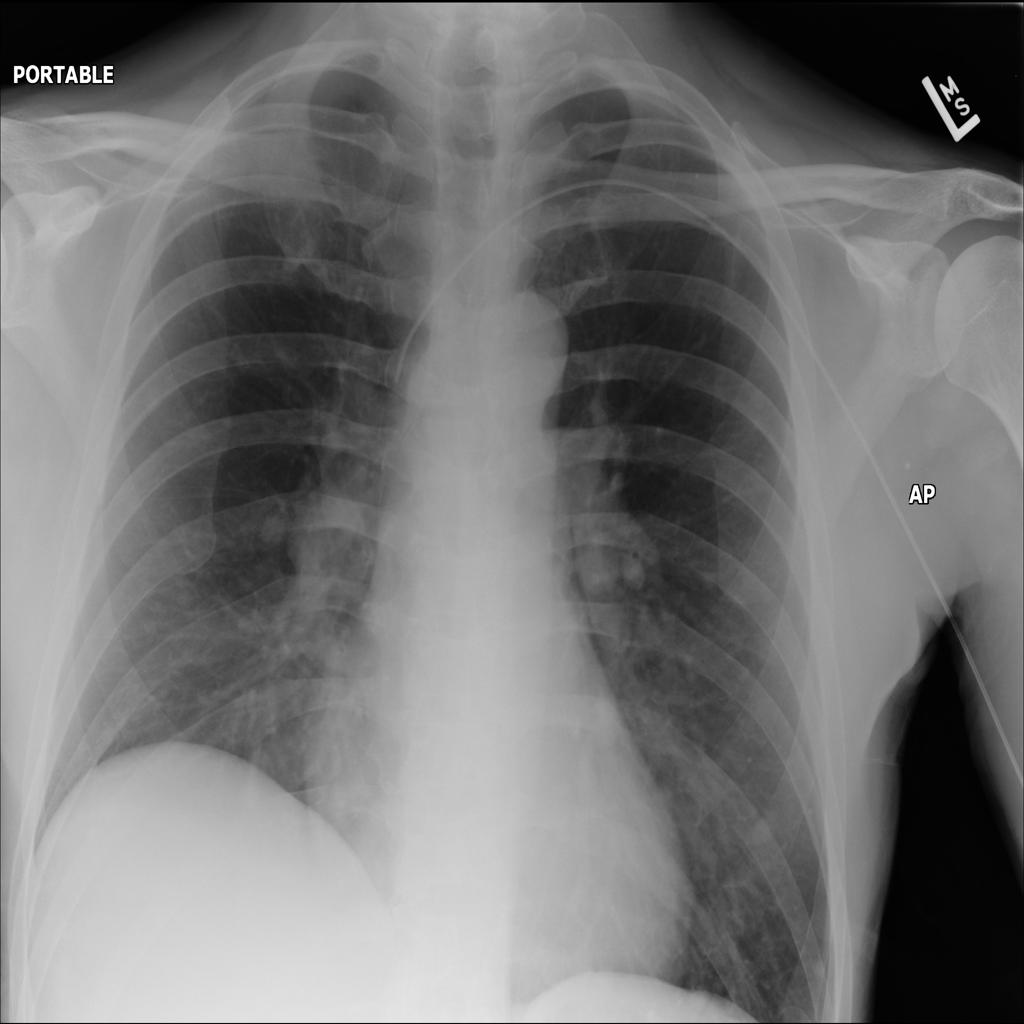nodule: (248, 503, 297, 557), (739, 799, 784, 857)
